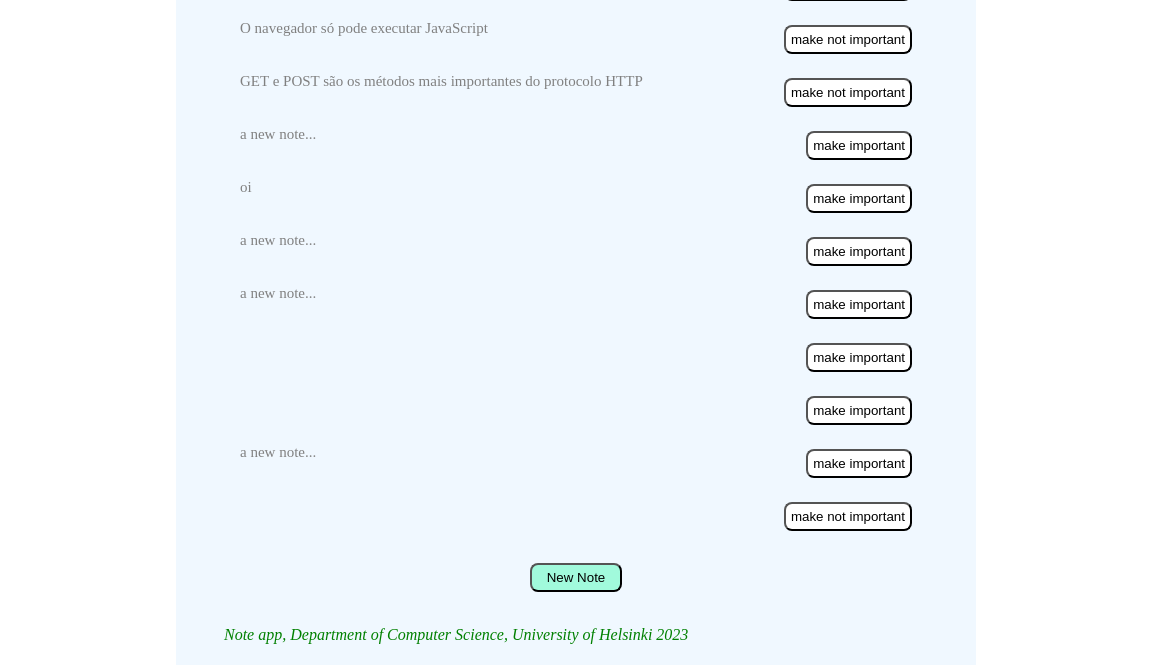
Test: Note app › when logged in › a new note can be created
(page scrolled)
Click the button "New Note" at (577, 578), box [530,563,623,592]
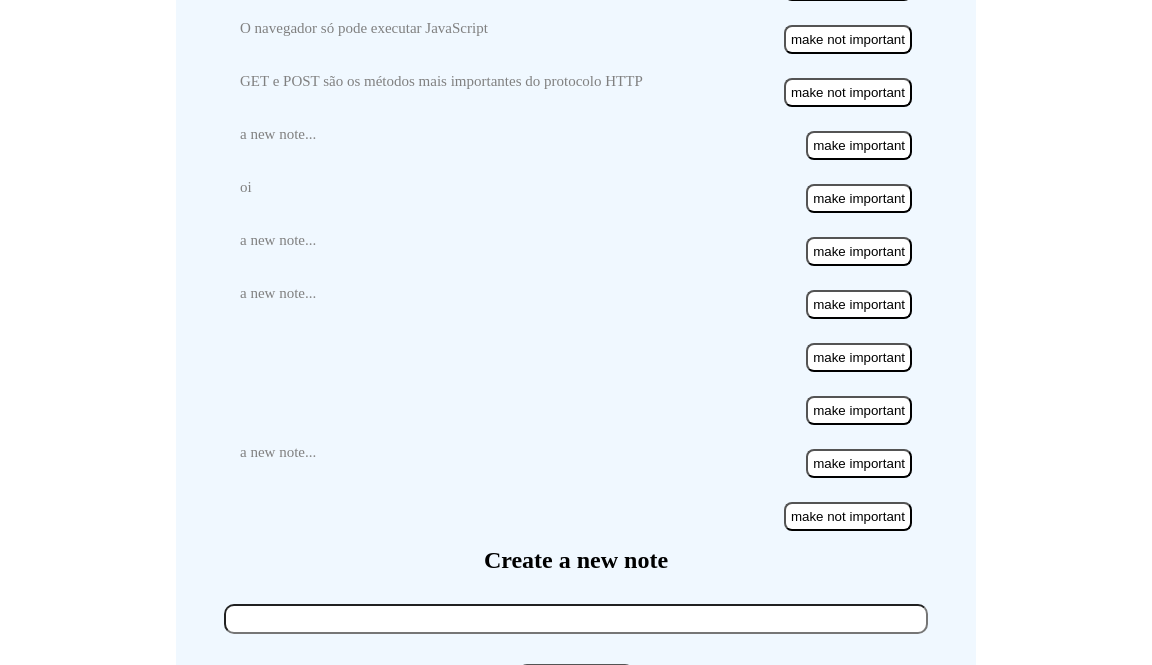
Type "a note created with cypress" into the field with id "new-note" at (576, 619), box [224,604,928,634]
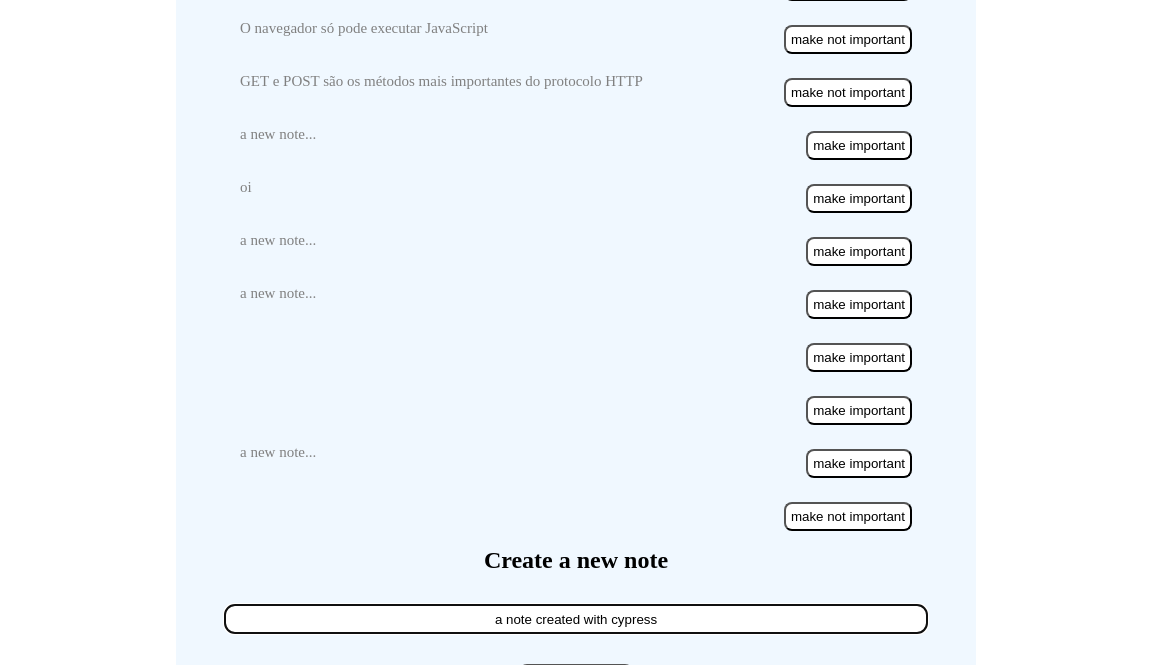
Scroll
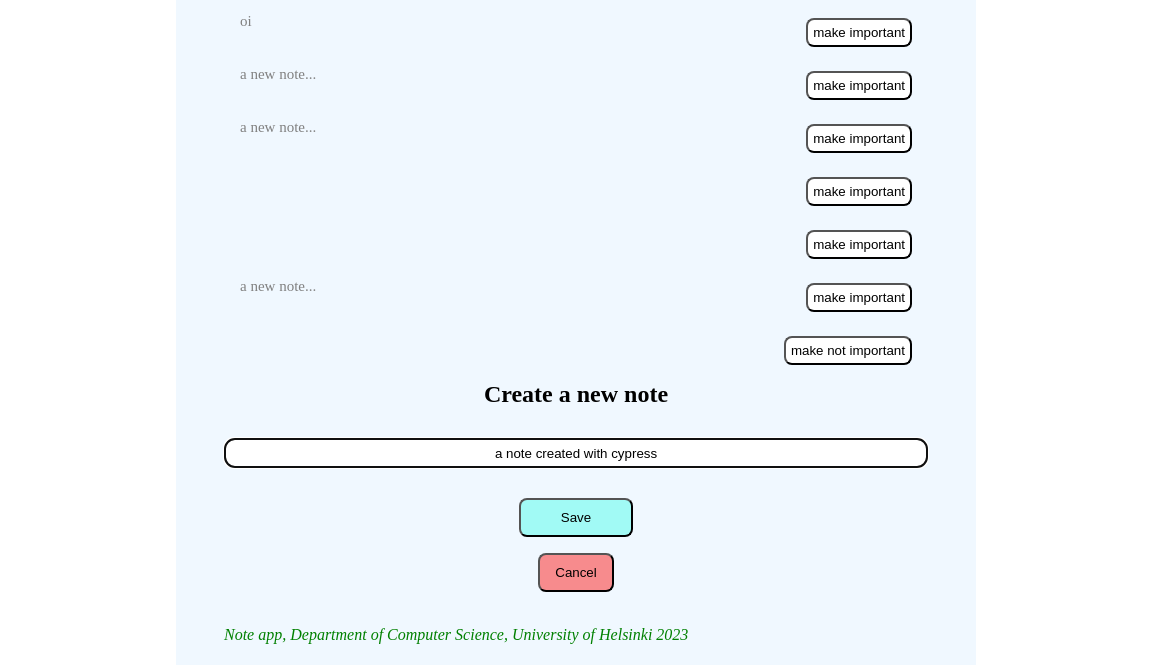
Click the button "Save" at (576, 518), box [519,498,633,537]
(page scrolled)
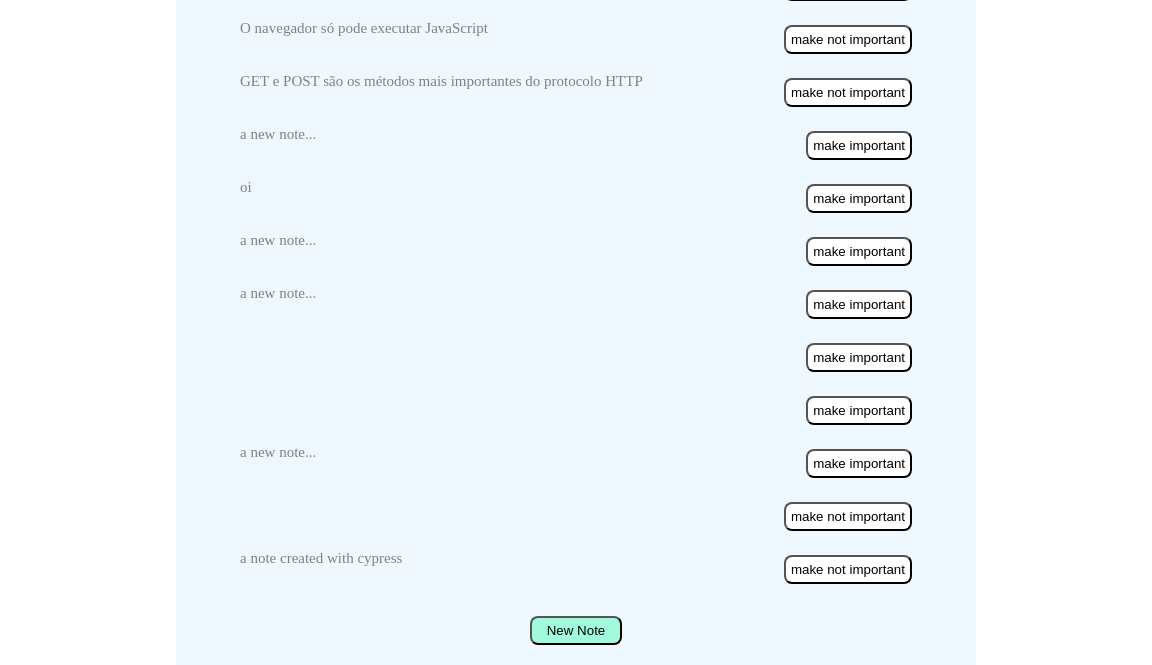
Now the text "a note created with cypress" is shown, box [240,550,402,566]
